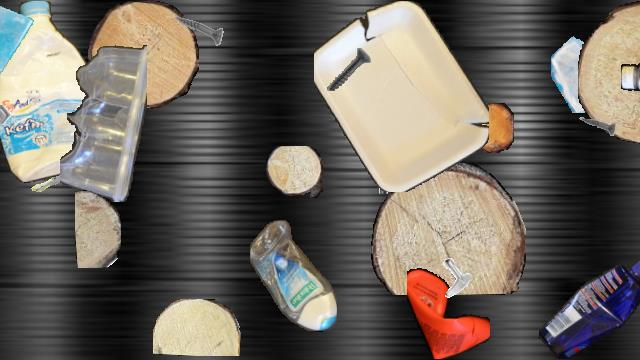glass: (551, 29, 635, 113), (0, 1, 38, 75)
metal: (317, 39, 379, 101), (14, 152, 72, 210), (166, 1, 224, 59), (371, 147, 417, 193), (431, 256, 475, 300), (576, 106, 616, 146), (0, 98, 18, 140)
plastic: (314, 1, 488, 191), (0, 1, 98, 183), (60, 41, 146, 201), (538, 253, 640, 359), (250, 220, 336, 332), (407, 265, 489, 359), (621, 43, 640, 111)
wood: (371, 163, 525, 295), (88, 1, 198, 109), (578, 1, 640, 143), (354, 93, 446, 169), (153, 299, 241, 355), (75, 190, 121, 268), (266, 146, 322, 198), (471, 103, 513, 153)
